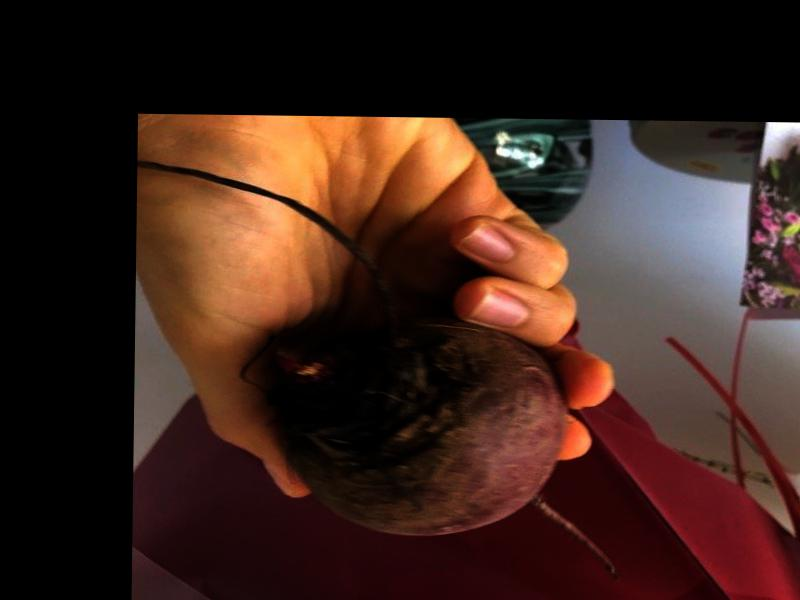Beet: (137, 160, 626, 579)
